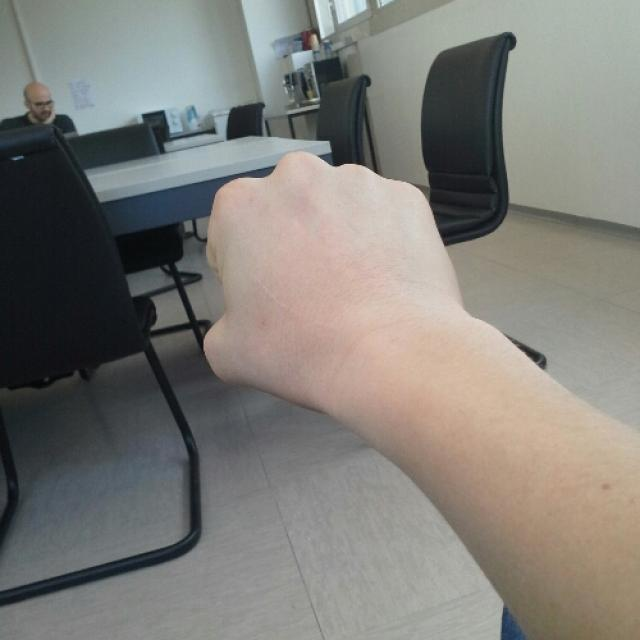rock: (205, 148, 460, 425)
